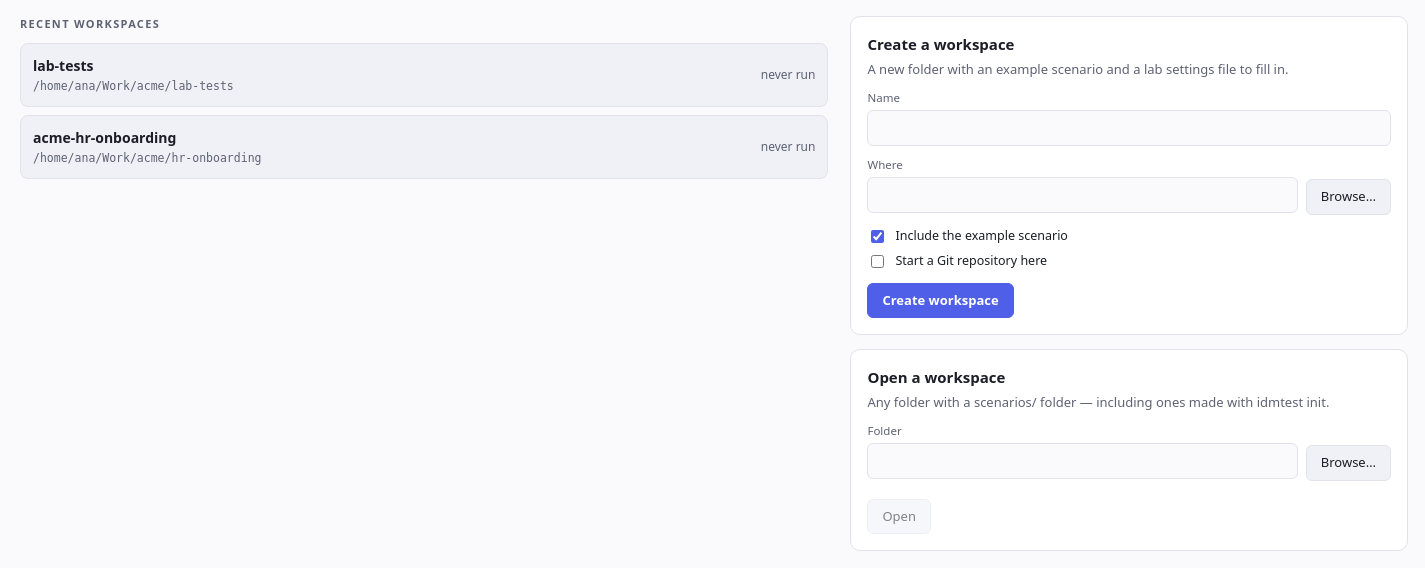
Test case: the run-going notice on the start page › shows the run-going notice
What coordinates should you click on to do the following:
click the button with aria-label "Open acme-hr-onboarding"
I would click on:
 (105, 137)
Its box is [20,115,828,179].
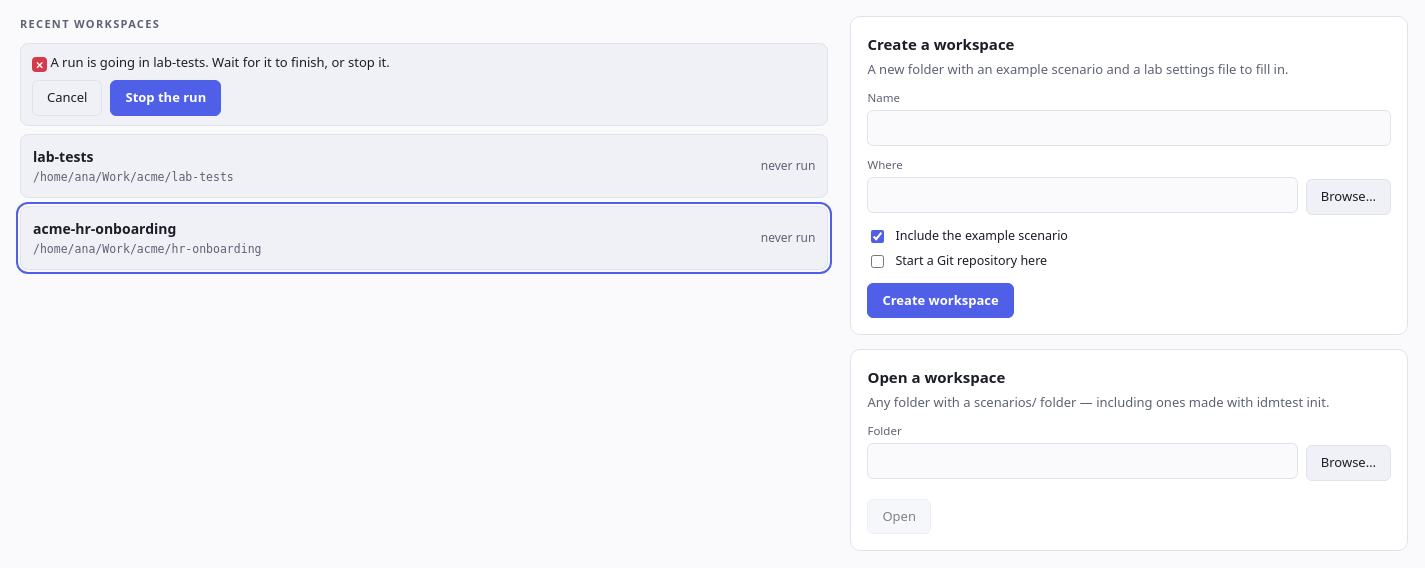
Check: the message shows "A run is going in lab-tests. Wait for it to finish, or stop it.", box [50,52,390,70]
Check: the button "Stop the run" is shown, box [110,80,221,116]
Check: the button "Cancel" is shown, box [32,80,102,116]
